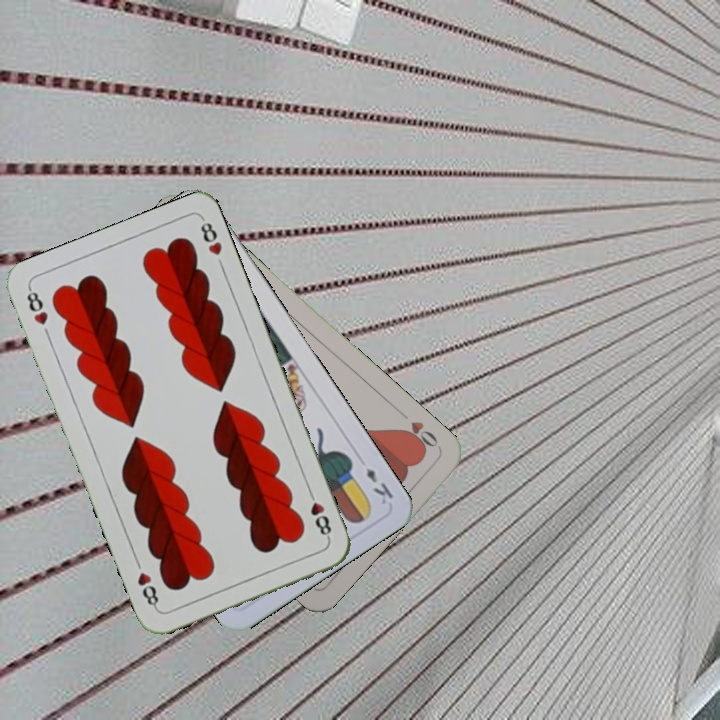EK: (361, 463, 396, 508)
H8: (304, 485, 334, 542), (22, 284, 51, 328)
HO: (396, 417, 441, 454)
